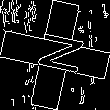N_W: (26, 30, 84, 80)
